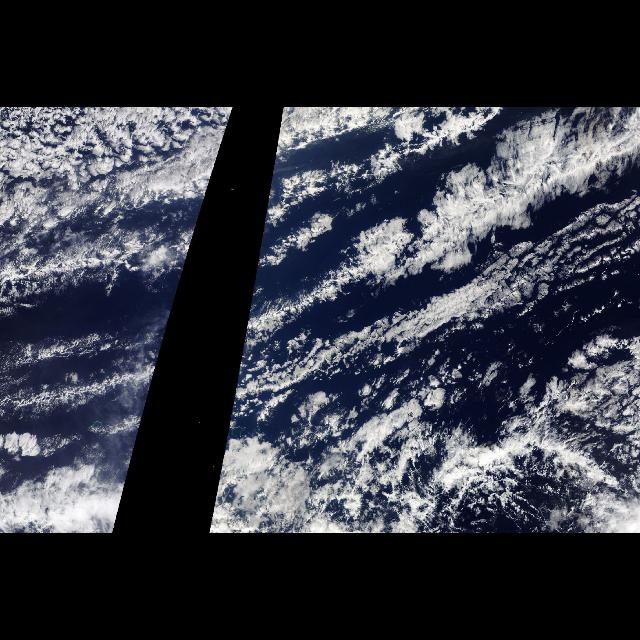Fish: (245, 108, 640, 332)
